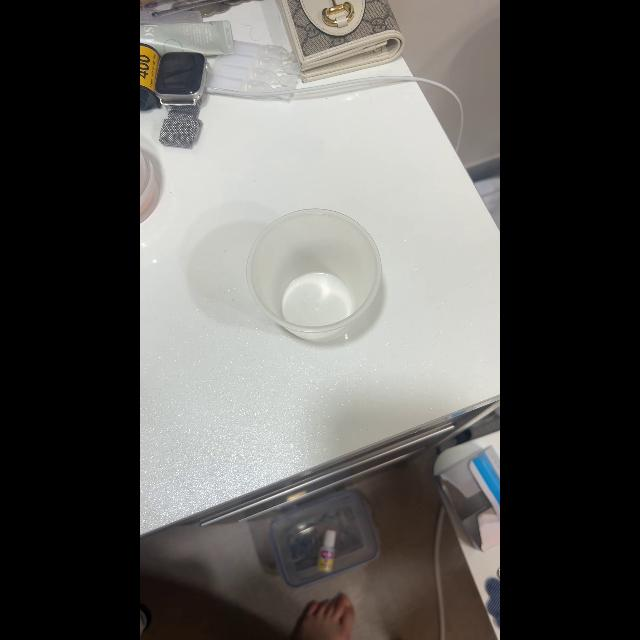clean: (258, 210, 372, 334)
